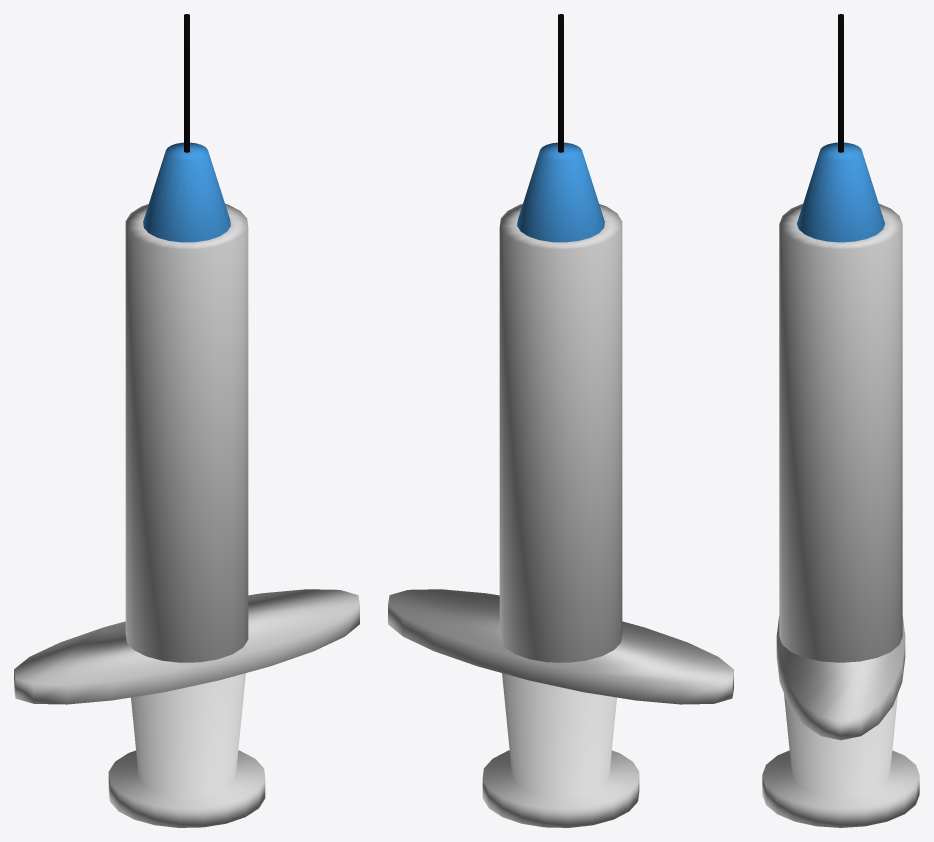
Rendered from Needle.fbx.
3 renders of one model, left to right at view 1: azimuth 30°, elevation 25°; view 2: azimuth 150°, elevation 25°; view 3: azimuth 270°, elevation 25°, orthographic.
Visible parts, largest first — view 1: Cylinder.006, Cylinder.008, Circle.002, Cylinder.001; view 2: Cylinder.006, Cylinder.008, Circle.002, Cylinder.001; view 3: Cylinder.006, Cylinder.008, Circle.002, Cylinder.001.
Boxes of the visible parts, left/top/right/bottom form: Cylinder.006: left=125, top=203, right=248, bottom=662; Cylinder.008: left=108, top=673, right=265, bottom=827; Circle.002: left=14, top=589, right=359, bottom=704; Cylinder.001: left=143, top=14, right=230, bottom=242; Cylinder.006: left=499, top=203, right=622, bottom=662; Cylinder.008: left=482, top=673, right=639, bottom=827; Circle.002: left=388, top=589, right=733, bottom=704; Cylinder.001: left=517, top=14, right=604, bottom=242; Cylinder.006: left=779, top=203, right=902, bottom=662; Cylinder.008: left=762, top=694, right=919, bottom=827; Circle.002: left=776, top=616, right=905, bottom=740; Cylinder.001: left=797, top=14, right=884, bottom=242.
Bounding box in the file's own units: 93.86 × 204 × 37.37.
